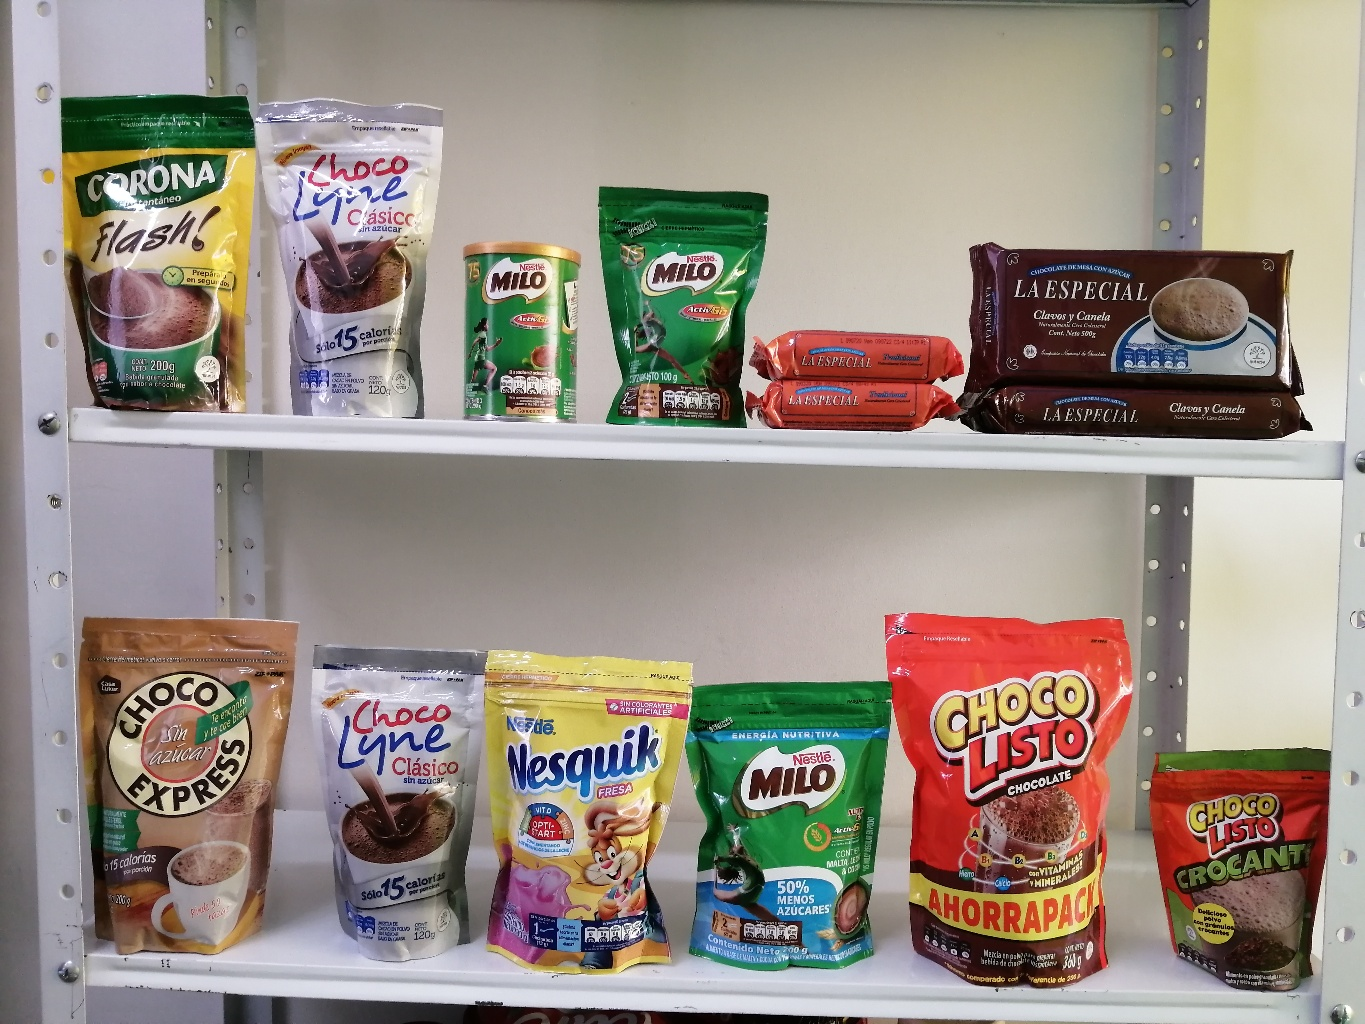COL0170102DYP10000: (1148, 741, 1335, 992)
COL0170103DYP36000: (888, 598, 1137, 985)
COL0170203DYP10000: (586, 174, 765, 429)
COL0170203LAT20000: (452, 237, 580, 422)
COL0170205DYP20000: (687, 672, 885, 977)
COL0170305DYP20000: (492, 650, 689, 965)
